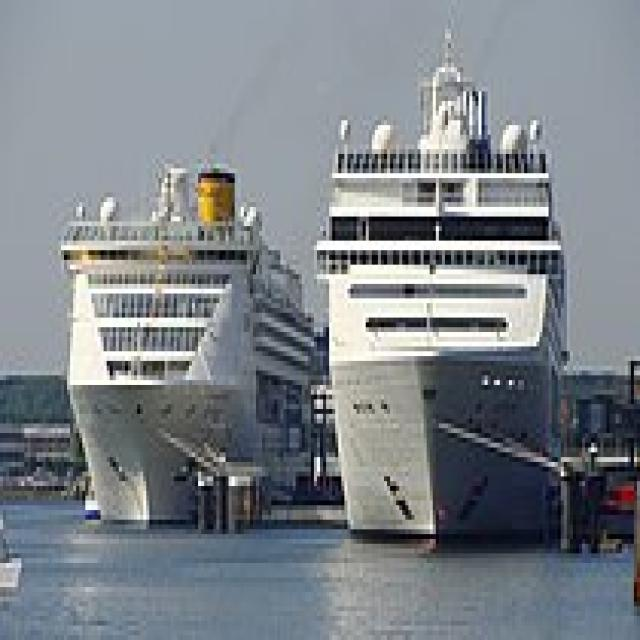boat: (327, 99, 585, 541), (55, 112, 286, 536)
